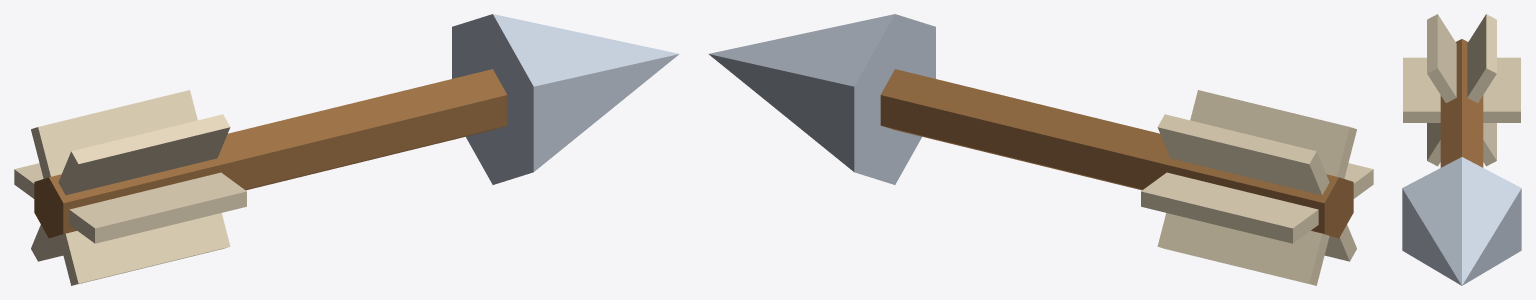
Rendered from arrow_marker.glb.
3 renders of one model, left to right at view 1: azimuth 30°, elevation 25°; view 2: azimuth 150°, elevation 25°; view 3: azimuth 270°, elevation 25°, orthographic. The views are drawn at different scales.
Parts seen in each view (by area): view 1: ArrowMarker; view 2: ArrowMarker; view 3: ArrowMarker.
Boxes of the visible parts, x1=… form: ArrowMarker: x1=14, y1=14, x2=679, y2=285; ArrowMarker: x1=708, y1=14, x2=1373, y2=285; ArrowMarker: x1=1402, y1=14, x2=1521, y2=285.
Bounding box in the file's own units: 1.31 × 0.34 × 0.2944.
